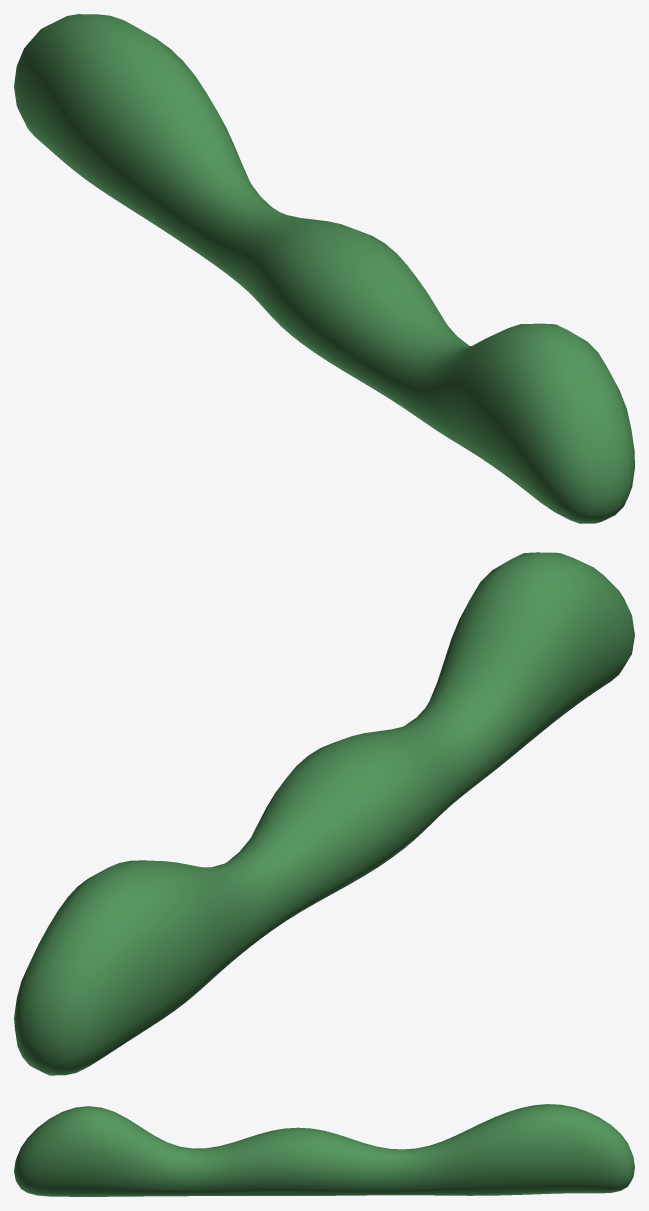
The model's file is Plant3_low.fbx.
The picture shows the model from 3 angles, top to bottom: view 1: azimuth 30°, elevation 25°; view 2: azimuth 150°, elevation 25°; view 3: azimuth 270°, elevation 25°; orthographic projection. The views are drawn at different scales.
Parts seen in each view (by area): view 1: Bush.001; view 2: Bush.001; view 3: Bush.001.
Boxes of the visible parts, bbox=[...] form: Bush.001: bbox=[14, 14, 634, 523]; Bush.001: bbox=[14, 552, 634, 1075]; Bush.001: bbox=[14, 1104, 634, 1196].
Bounding box in the file's own units: 36.79 × 43.75 × 286.
